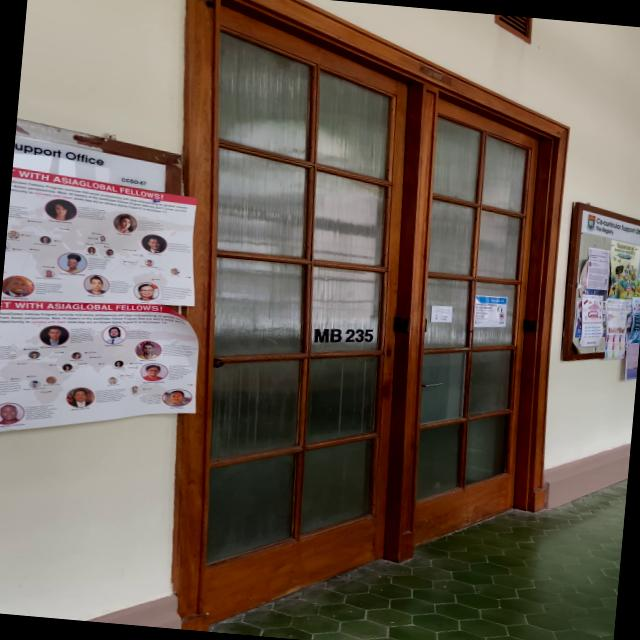room235Window: (311, 323, 375, 349)
